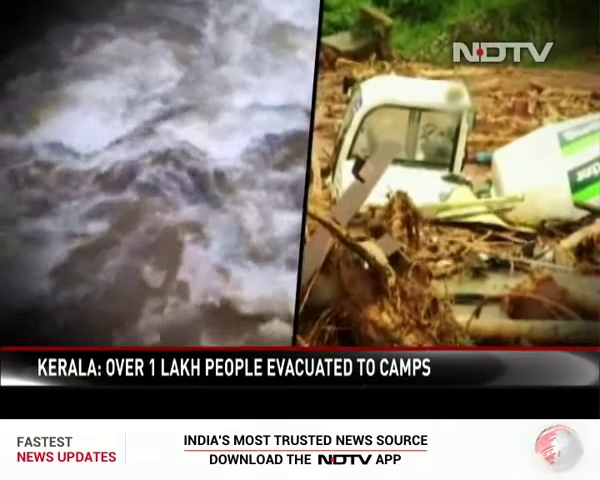vehicle: (343, 89, 594, 218), (446, 286, 600, 345)
